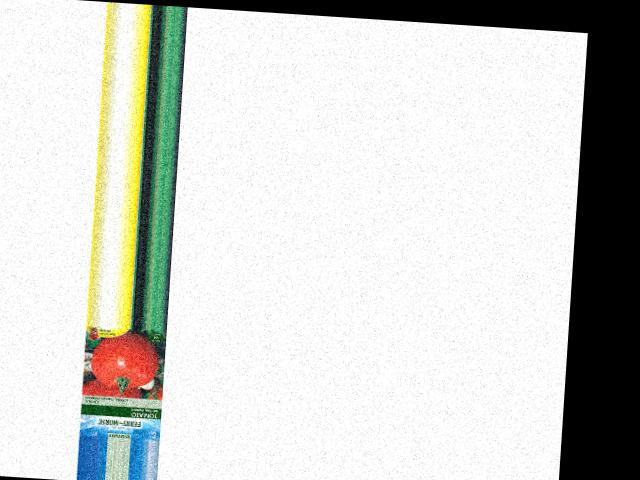tomato: (90, 329, 160, 389)
